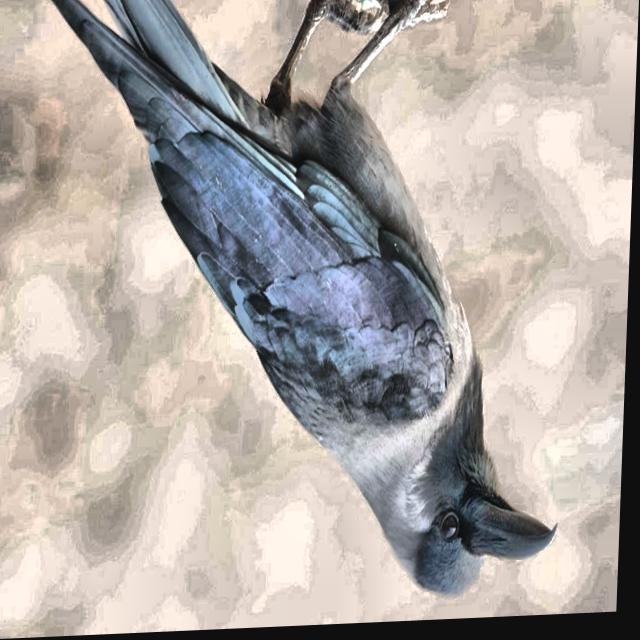crow: (51, 0, 588, 622)
